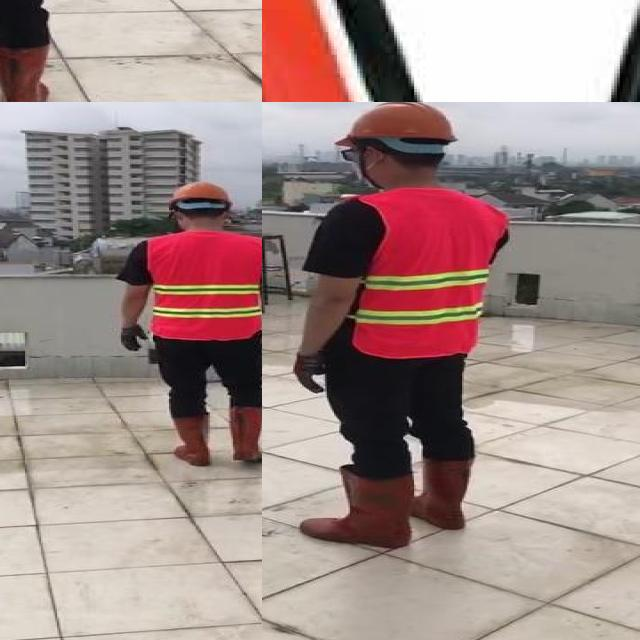Ear-protection: (262, 0, 482, 102), (556, 0, 640, 102)
boots: (304, 466, 416, 548), (405, 458, 473, 529), (0, 46, 49, 102), (166, 413, 216, 465), (225, 404, 262, 465)
hand_glove: (293, 351, 327, 394), (119, 326, 146, 351)
head_helmet: (327, 102, 464, 143), (168, 180, 230, 203)
person: (268, 102, 526, 551), (111, 179, 262, 473), (0, 0, 109, 102)
vest: (334, 189, 505, 357), (144, 232, 262, 341)
